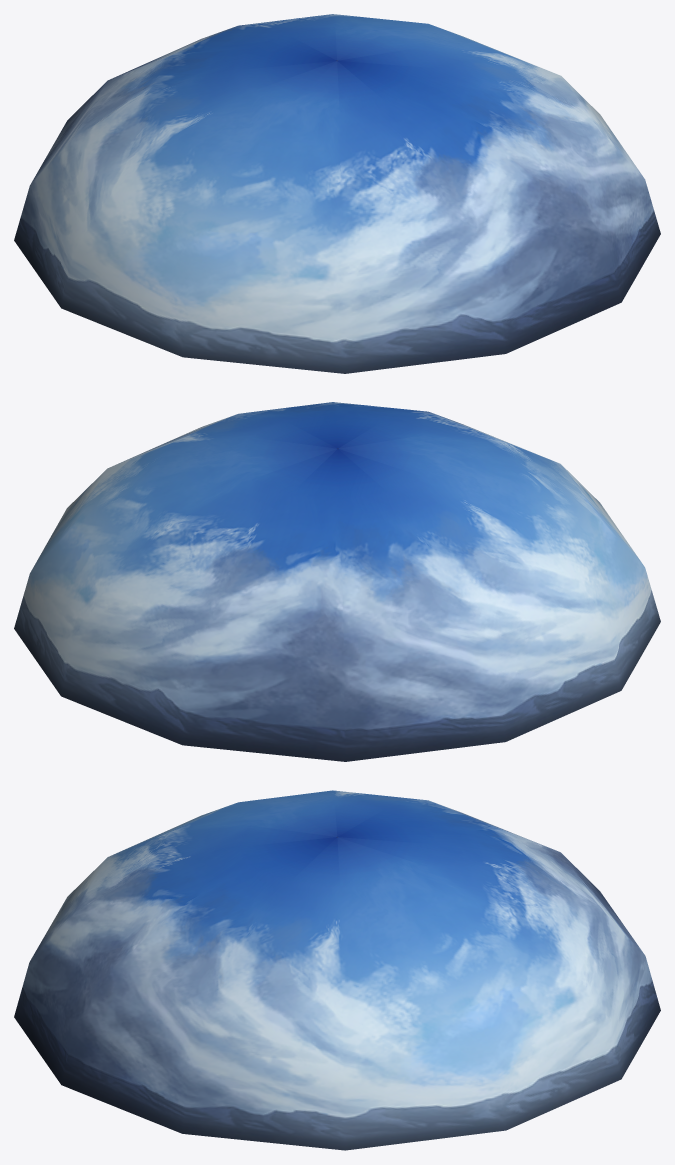
The model's file is env_sul_lavafields_pre.glb.
The picture shows the model from 3 angles, top to bottom: view 1: azimuth 30°, elevation 25°; view 2: azimuth 150°, elevation 25°; view 3: azimuth 270°, elevation 25°; orthographic projection.
Visible parts, largest first — view 1: skybox_01_mesh; view 2: skybox_01_mesh; view 3: skybox_01_mesh.
Part boxes in pixels (x1,y1,x2,y2): skybox_01_mesh: [14, 14, 660, 373]; skybox_01_mesh: [14, 402, 660, 761]; skybox_01_mesh: [14, 790, 660, 1150].
Size of the model in its own units: 538 by 178 by 538.
16 materials, 16 textured.
